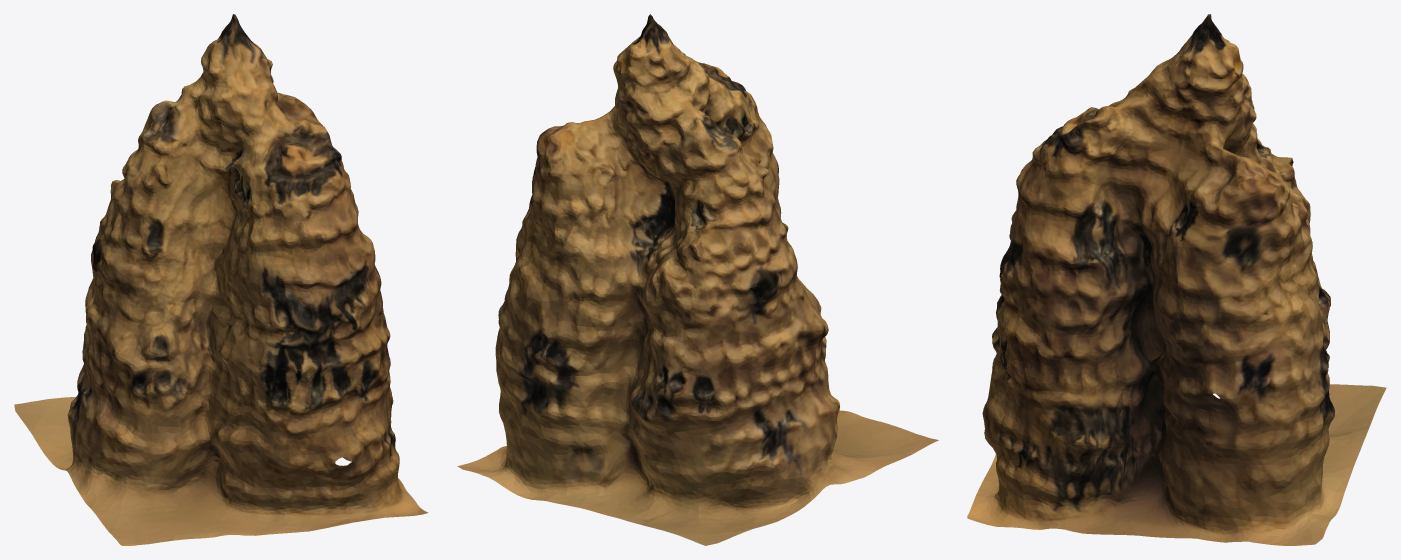
The model's file is whitepointy.glb.
The picture shows the model from 3 angles, left to right: view 1: azimuth 30°, elevation 25°; view 2: azimuth 150°, elevation 25°; view 3: azimuth 270°, elevation 25°; orthographic projection. The views are drawn at different scales.
Bounding box in the file's own units: 0.9172 × 1.16 × 0.942.
1 material, 1 textured.
